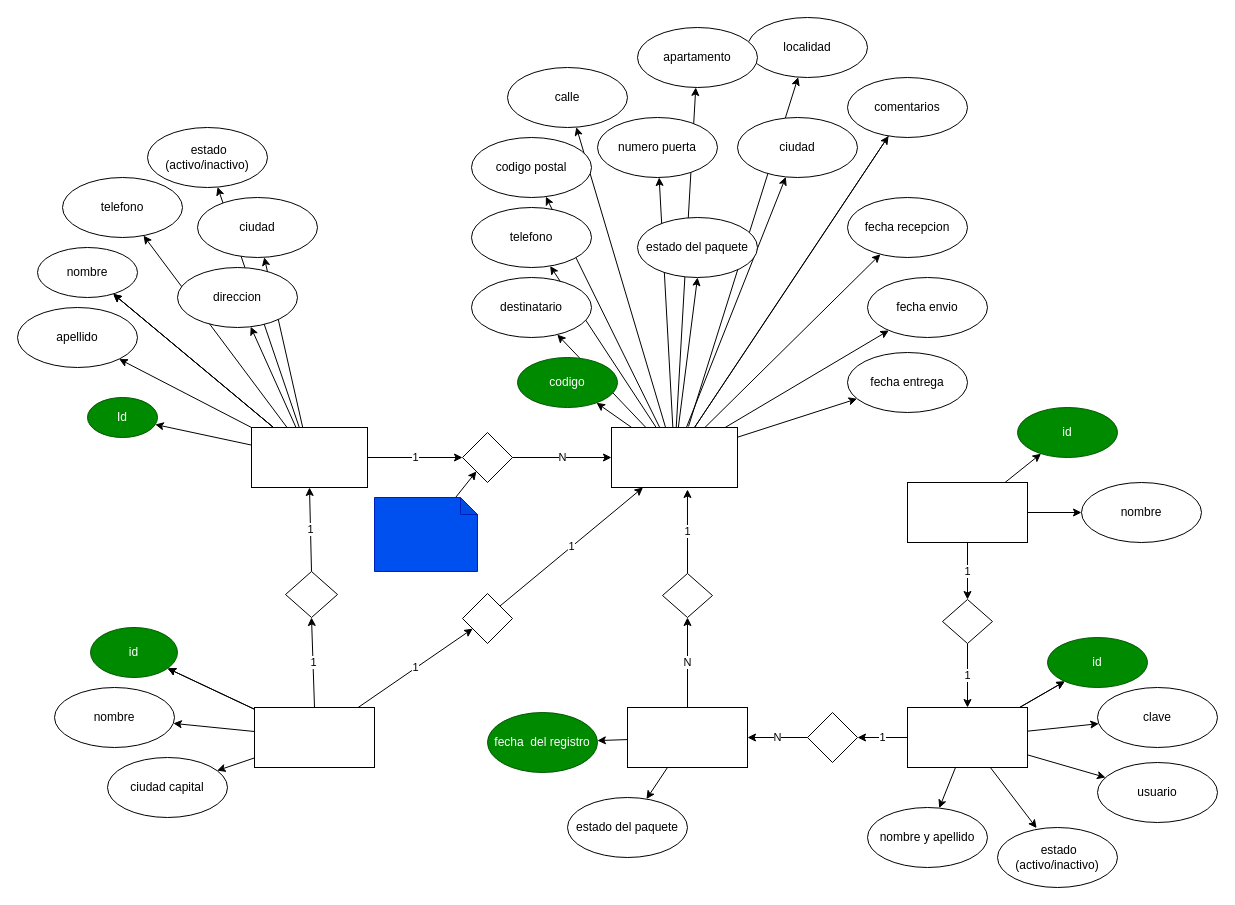
This 1235x905 diagram has some shape labels left out. Here are the shapes that lost their labels. From the top down, the centre of each, then its label:
pixel 309 457: cliente
pixel 674 457: envio
pixel 967 512: roles
pixel 426 534: cliente envia paquete
pixel 314 737: departamento
pixel 687 737: historico envio
pixel 967 737: usuarios
